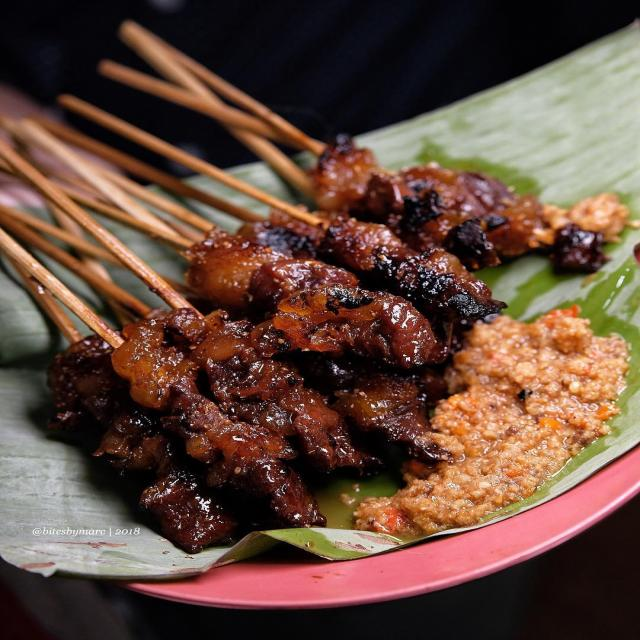sate: (0, 18, 609, 559)
